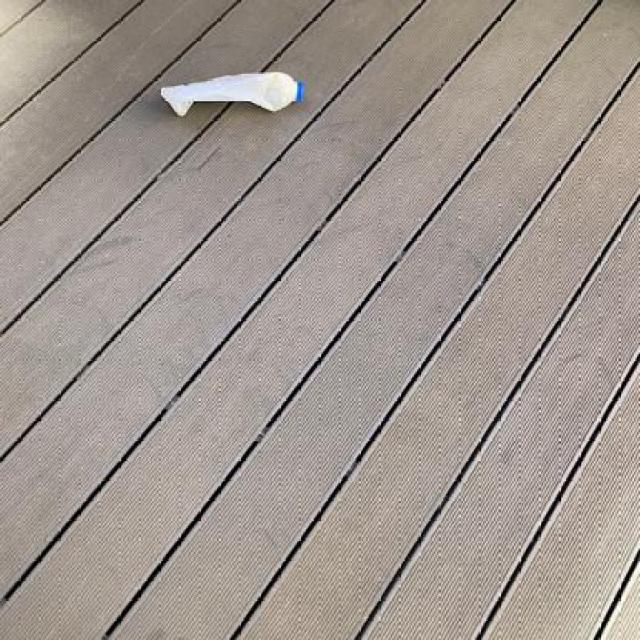trash: (152, 71, 306, 115)
